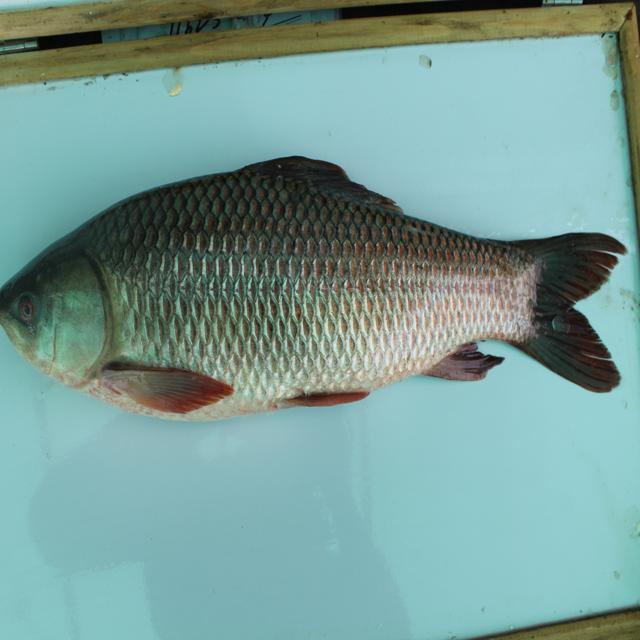Rohu: (5, 150, 624, 394)
